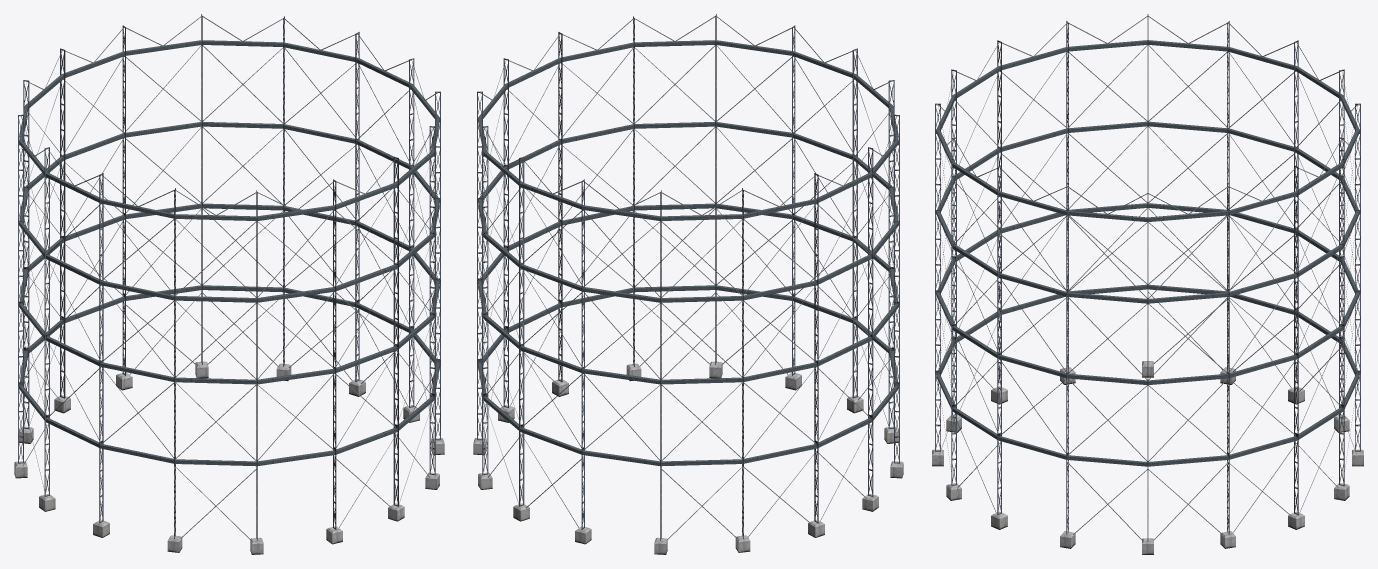
File: GasStorage02b.obj
3 renders of one model, left to right at view 1: azimuth 30°, elevation 25°; view 2: azimuth 150°, elevation 25°; view 3: azimuth 270°, elevation 25°, orthographic.
Visible parts, largest first — view 1: Foundation01; view 2: Foundation01; view 3: Foundation01.
Part boxes in pixels (<box>): Foundation01: <box>14,14,444,554</box>; Foundation01: <box>473,14,903,554</box>; Foundation01: <box>932,14,1363,554</box>.
Size of the model in its own units: 43.2 by 39.73 by 43.2.
